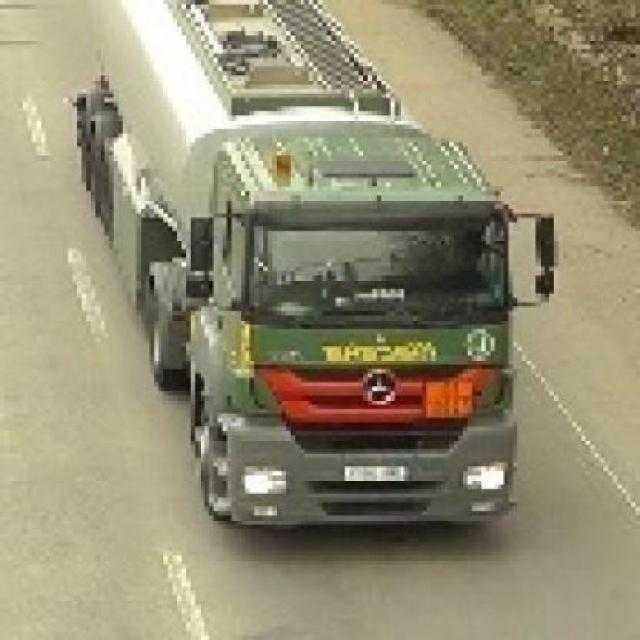truck: (73, 1, 555, 530)
